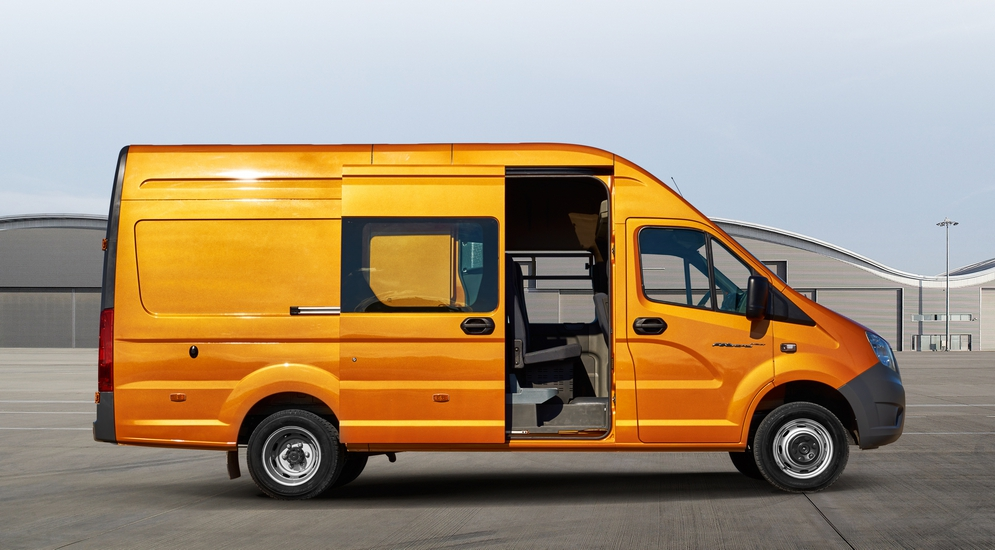van: (92, 141, 908, 502)
